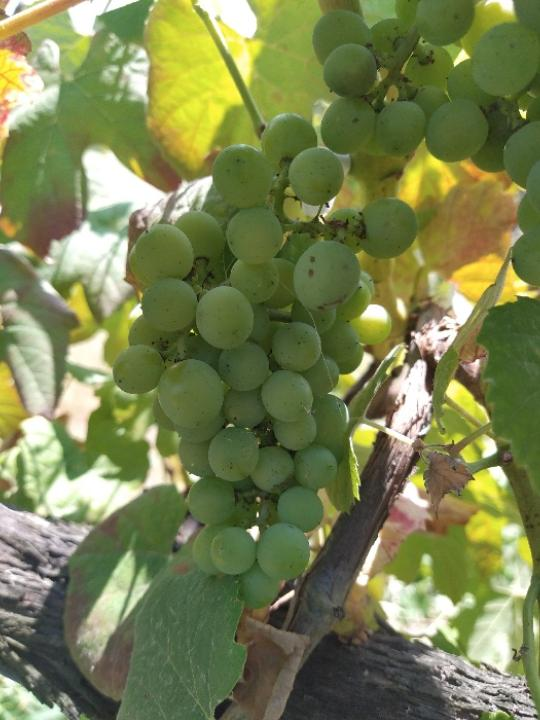grape: (101, 110, 422, 613)
